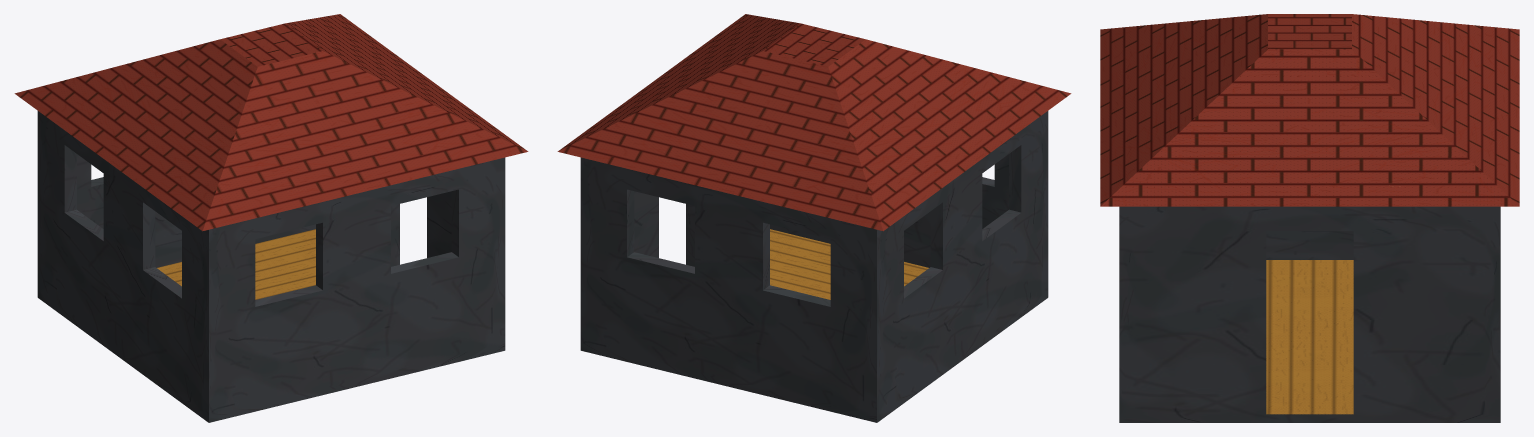
Rendered from Small Hut 1.fbx.
The picture shows the model from 3 angles, left to right: view 1: azimuth 30°, elevation 25°; view 2: azimuth 150°, elevation 25°; view 3: azimuth 270°, elevation 25°; orthographic projection. The views are drawn at different scales.
Visible parts, largest first — view 1: Small Hut; view 2: Small Hut; view 3: Small Hut.
Part boxes in pixels (x1=…): Small Hut: x1=14, y1=14, x2=528, y2=422; Small Hut: x1=557, y1=14, x2=1071, y2=422; Small Hut: x1=1100, y1=14, x2=1519, y2=422.
Bounding box in the file's own units: 528 × 432 × 528.
Materials: 3 (3 with a texture image).
